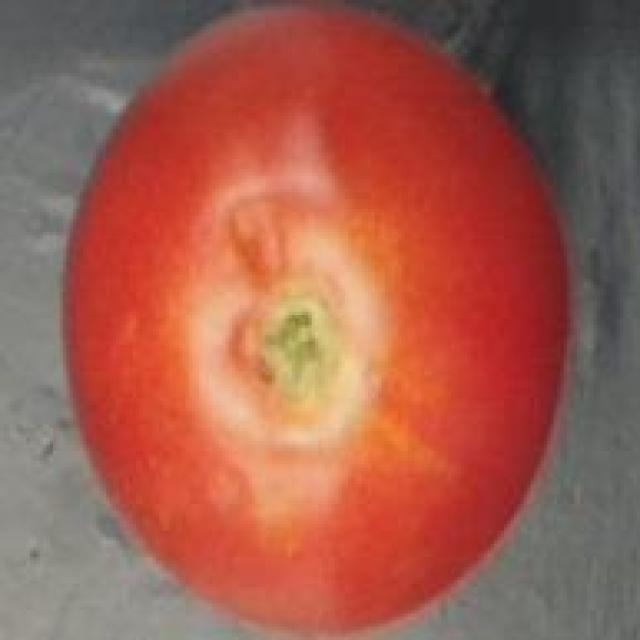ripe tomato: (43, 3, 574, 640)
